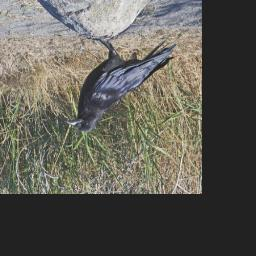Crow: (65, 31, 178, 135)
